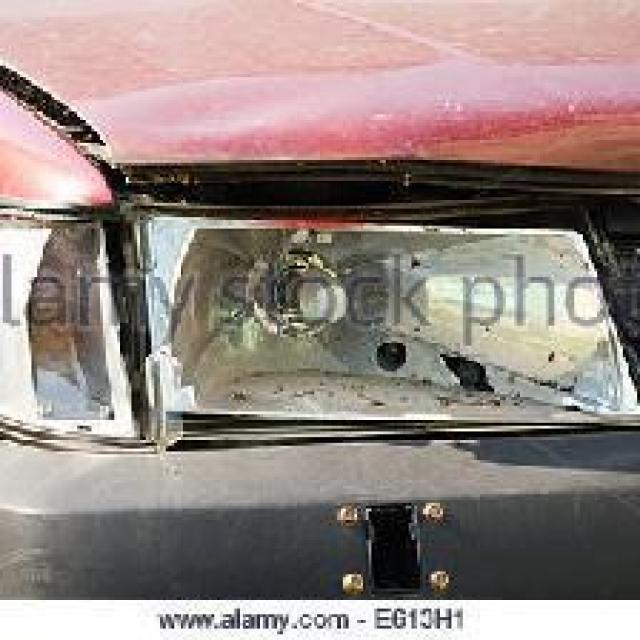damaged: (34, 66, 637, 452)
